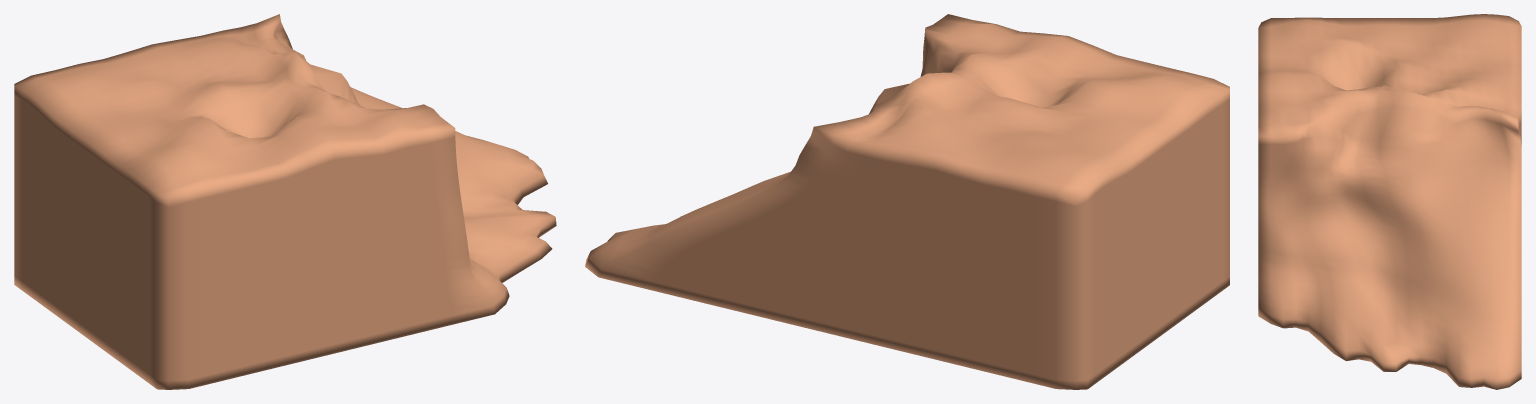
File: vainilla_casi_lleno.fbx
3 renders of one model, left to right at view 1: azimuth 30°, elevation 25°; view 2: azimuth 150°, elevation 25°; view 3: azimuth 270°, elevation 25°, orthographic. The views are drawn at different scales.
Visible parts, largest first — view 1: Vainilla_Casi_Lleno; view 2: Vainilla_Casi_Lleno; view 3: Vainilla_Casi_Lleno.
Boxes of the visible parts, x1=… form: Vainilla_Casi_Lleno: x1=14, y1=14, x2=556, y2=389; Vainilla_Casi_Lleno: x1=585, y1=14, x2=1229, y2=389; Vainilla_Casi_Lleno: x1=1258, y1=14, x2=1521, y2=389.
Size of the model in its own units: 353 by 144 by 189.
